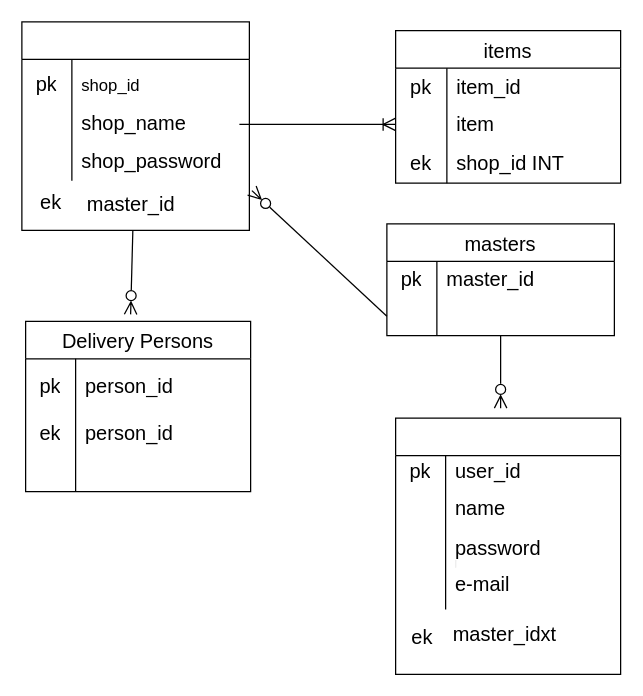
Some shapes in this 643 by 696 pixel diagram are drawn without their labels. The shapes that lost their labels are listed below. From the top down, each one's box as (x1, y1, x2, y2) in pixels, then its label:
(21, 21, 249, 230): shops
(394, 417, 621, 674): users
